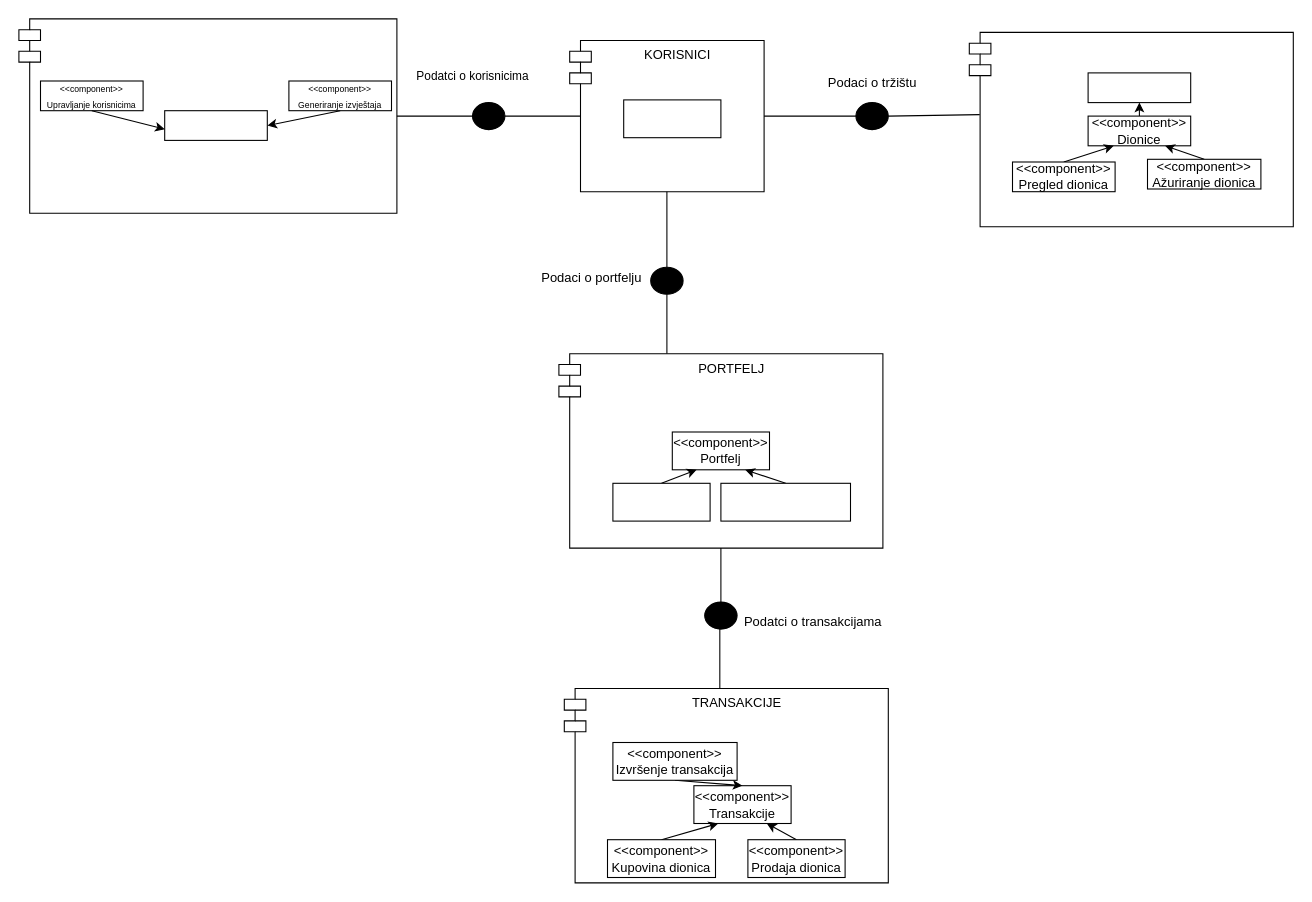
Some shapes in this 1312 by 902 pixel diagram are drawn without their labels. The box of each missing label's shape, as (x1, y1, x2, y2) in pixels:
<<component>> Administrator: (164, 110, 267, 140)
<<component>> Korisnik: (623, 99, 721, 138)
<<component>> Pregled portfelja: (612, 482, 710, 521)
<<component>> Pregled tržošta: (1087, 72, 1191, 103)
<<component>> Upravljanje portfeljom: (720, 482, 850, 521)
ADMINISTRACIJA: (18, 18, 397, 213)
TRŽIŠTE: (968, 31, 1293, 227)
